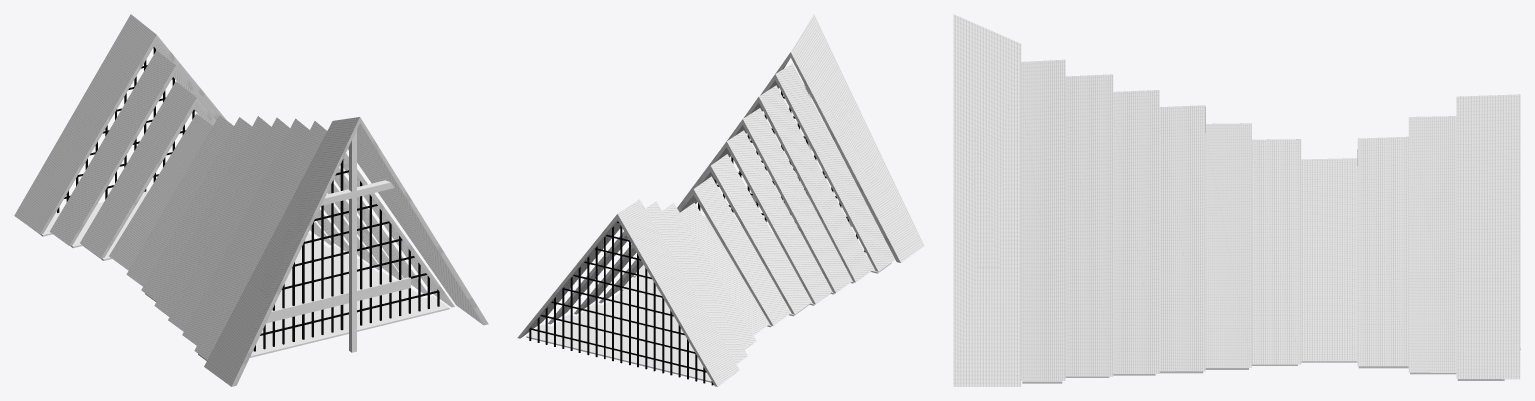
File: tromso church.fbx
3 views of the same model, side by side, from view 1: azimuth 30°, elevation 25°; view 2: azimuth 150°, elevation 25°; view 3: azimuth 270°, elevation 25° (orthographic). The views are drawn at different scales.
Visible parts, largest first — view 1: roof, ground, black_grid, white_pole1; view 2: roof, ground, black_grid; view 3: roof, ground.
Part boxes in pixels (x1,y1,x2,y2): roof: (14, 14, 488, 386); ground: (33, 191, 449, 360); black_grid: (57, 47, 439, 351); white_pole1: (266, 130, 410, 352); roof: (517, 14, 924, 386); ground: (526, 216, 891, 382); black_grid: (529, 91, 865, 385); roof: (953, 14, 1520, 386); ground: (1022, 361, 1504, 383).
Bounding box in the file's own units: 26.61 × 23.92 × 41.07.
Materials: 5 (5 with a texture image).
